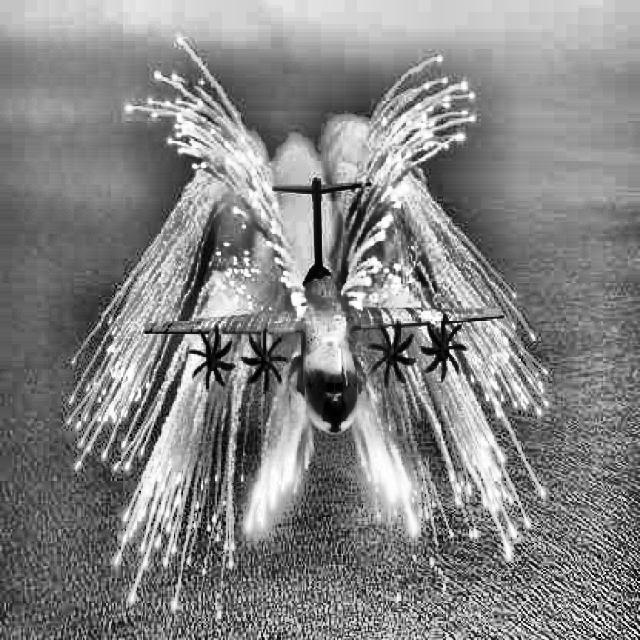A400M: (144, 176, 504, 435)
